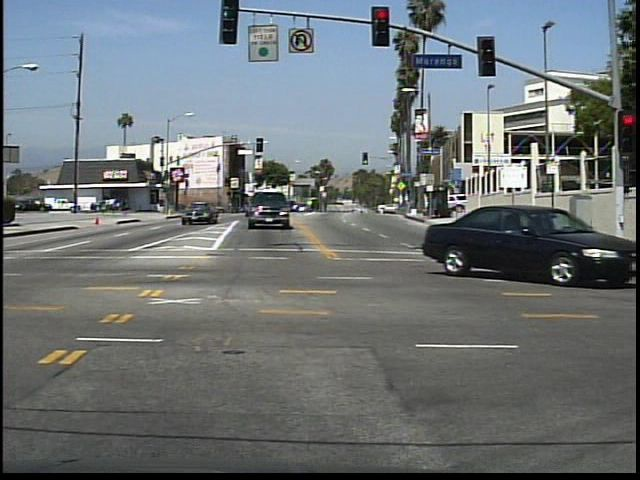person: (121, 195, 132, 219)
